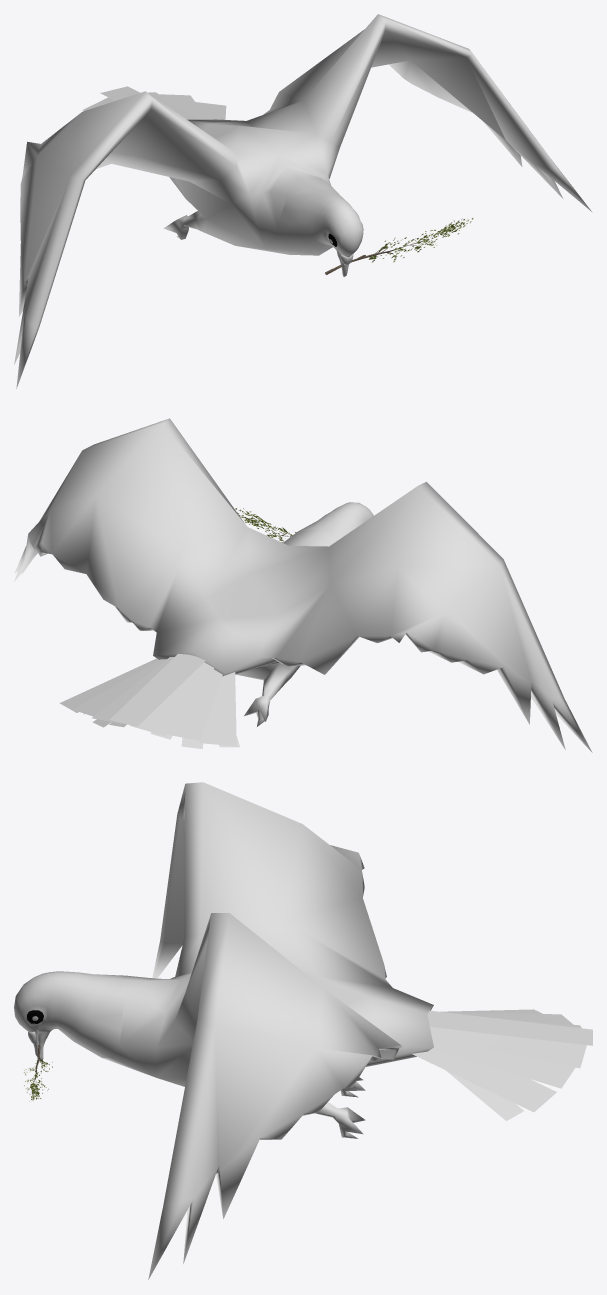
File: dove_model.glb
3 views of the same model, one above another, from view 1: azimuth 30°, elevation 25°; view 2: azimuth 150°, elevation 25°; view 3: azimuth 270°, elevation 25° (orthographic). The views are drawn at different scales.
Parts seen in each view (by area): view 1: Mesh_0; view 2: Mesh_0; view 3: Mesh_0.
Part boxes in pixels (x1,y1,x2,y2): Mesh_0: [14, 14, 592, 388]; Mesh_0: [14, 418, 592, 752]; Mesh_0: [14, 782, 592, 1279].
Size of the model in its own units: 79.5 by 33.7 by 57.71.
Materials: 4 (2 with a texture image).
